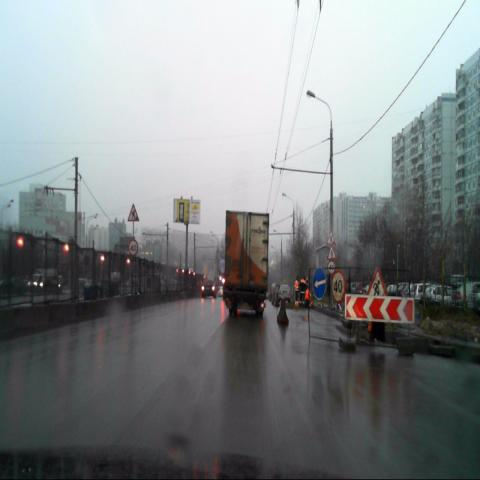1_25: (366, 267, 388, 306)
4_1_2_2: (313, 268, 326, 300)
